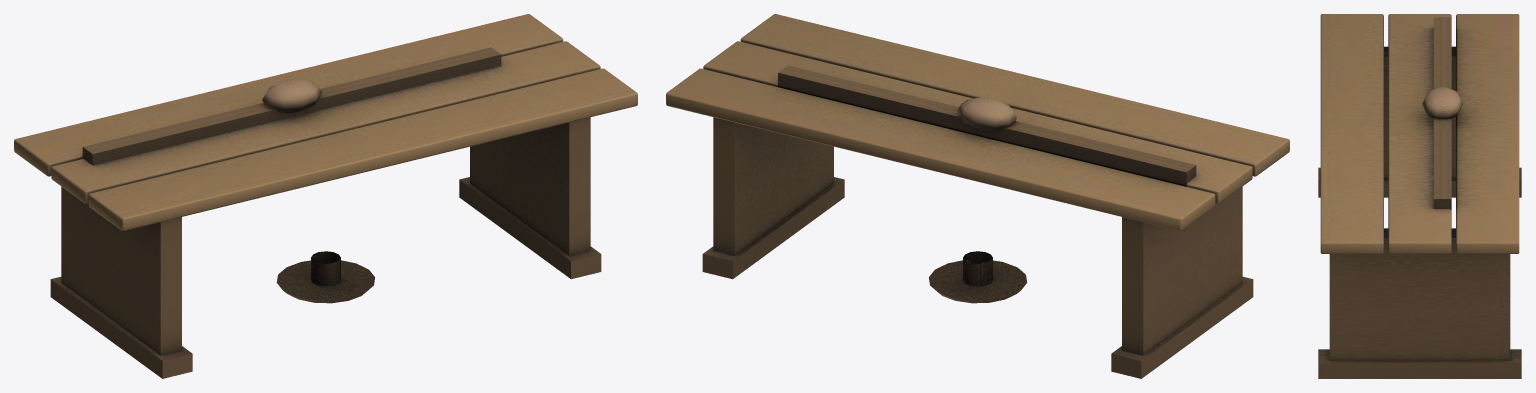
Rendered from table.glb.
3 renders of one model, left to right at view 1: azimuth 30°, elevation 25°; view 2: azimuth 150°, elevation 25°; view 3: azimuth 270°, elevation 25°, orthographic. The views are drawn at different scales.
Visible parts, largest first — view 1: foot-1; view 2: foot-1; view 3: foot-1.
Part boxes in pixels (x1,y1,x2,y2): foot-1: (14, 14, 637, 378); foot-1: (666, 14, 1289, 378); foot-1: (1318, 14, 1521, 378).
Bounding box in the file's own units: 2.4 × 0.88 × 0.9.
1 material, 1 textured.
